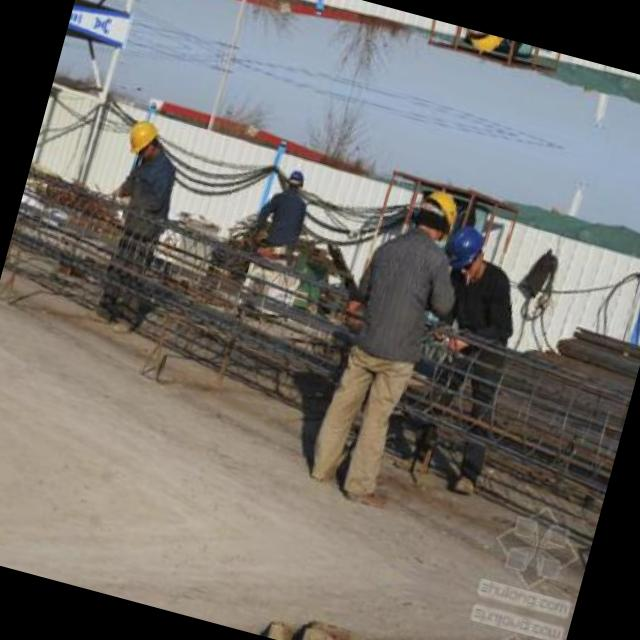helmet: (436, 216, 494, 278), (408, 182, 465, 244), (120, 113, 168, 164), (456, 27, 506, 61), (280, 163, 308, 195), (331, 0, 353, 3)
